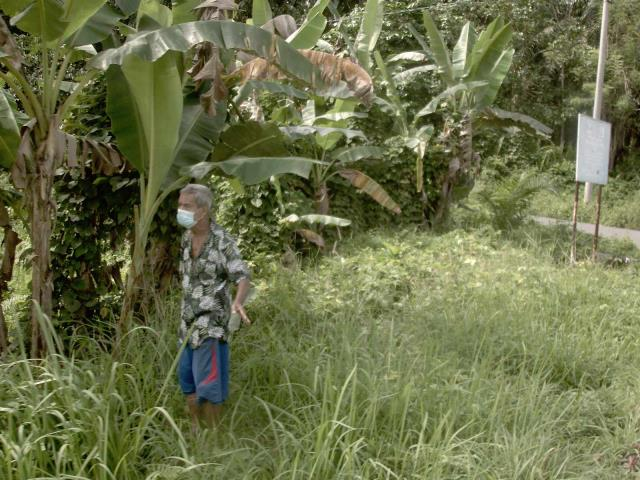ads_sign: (566, 108, 620, 195)
